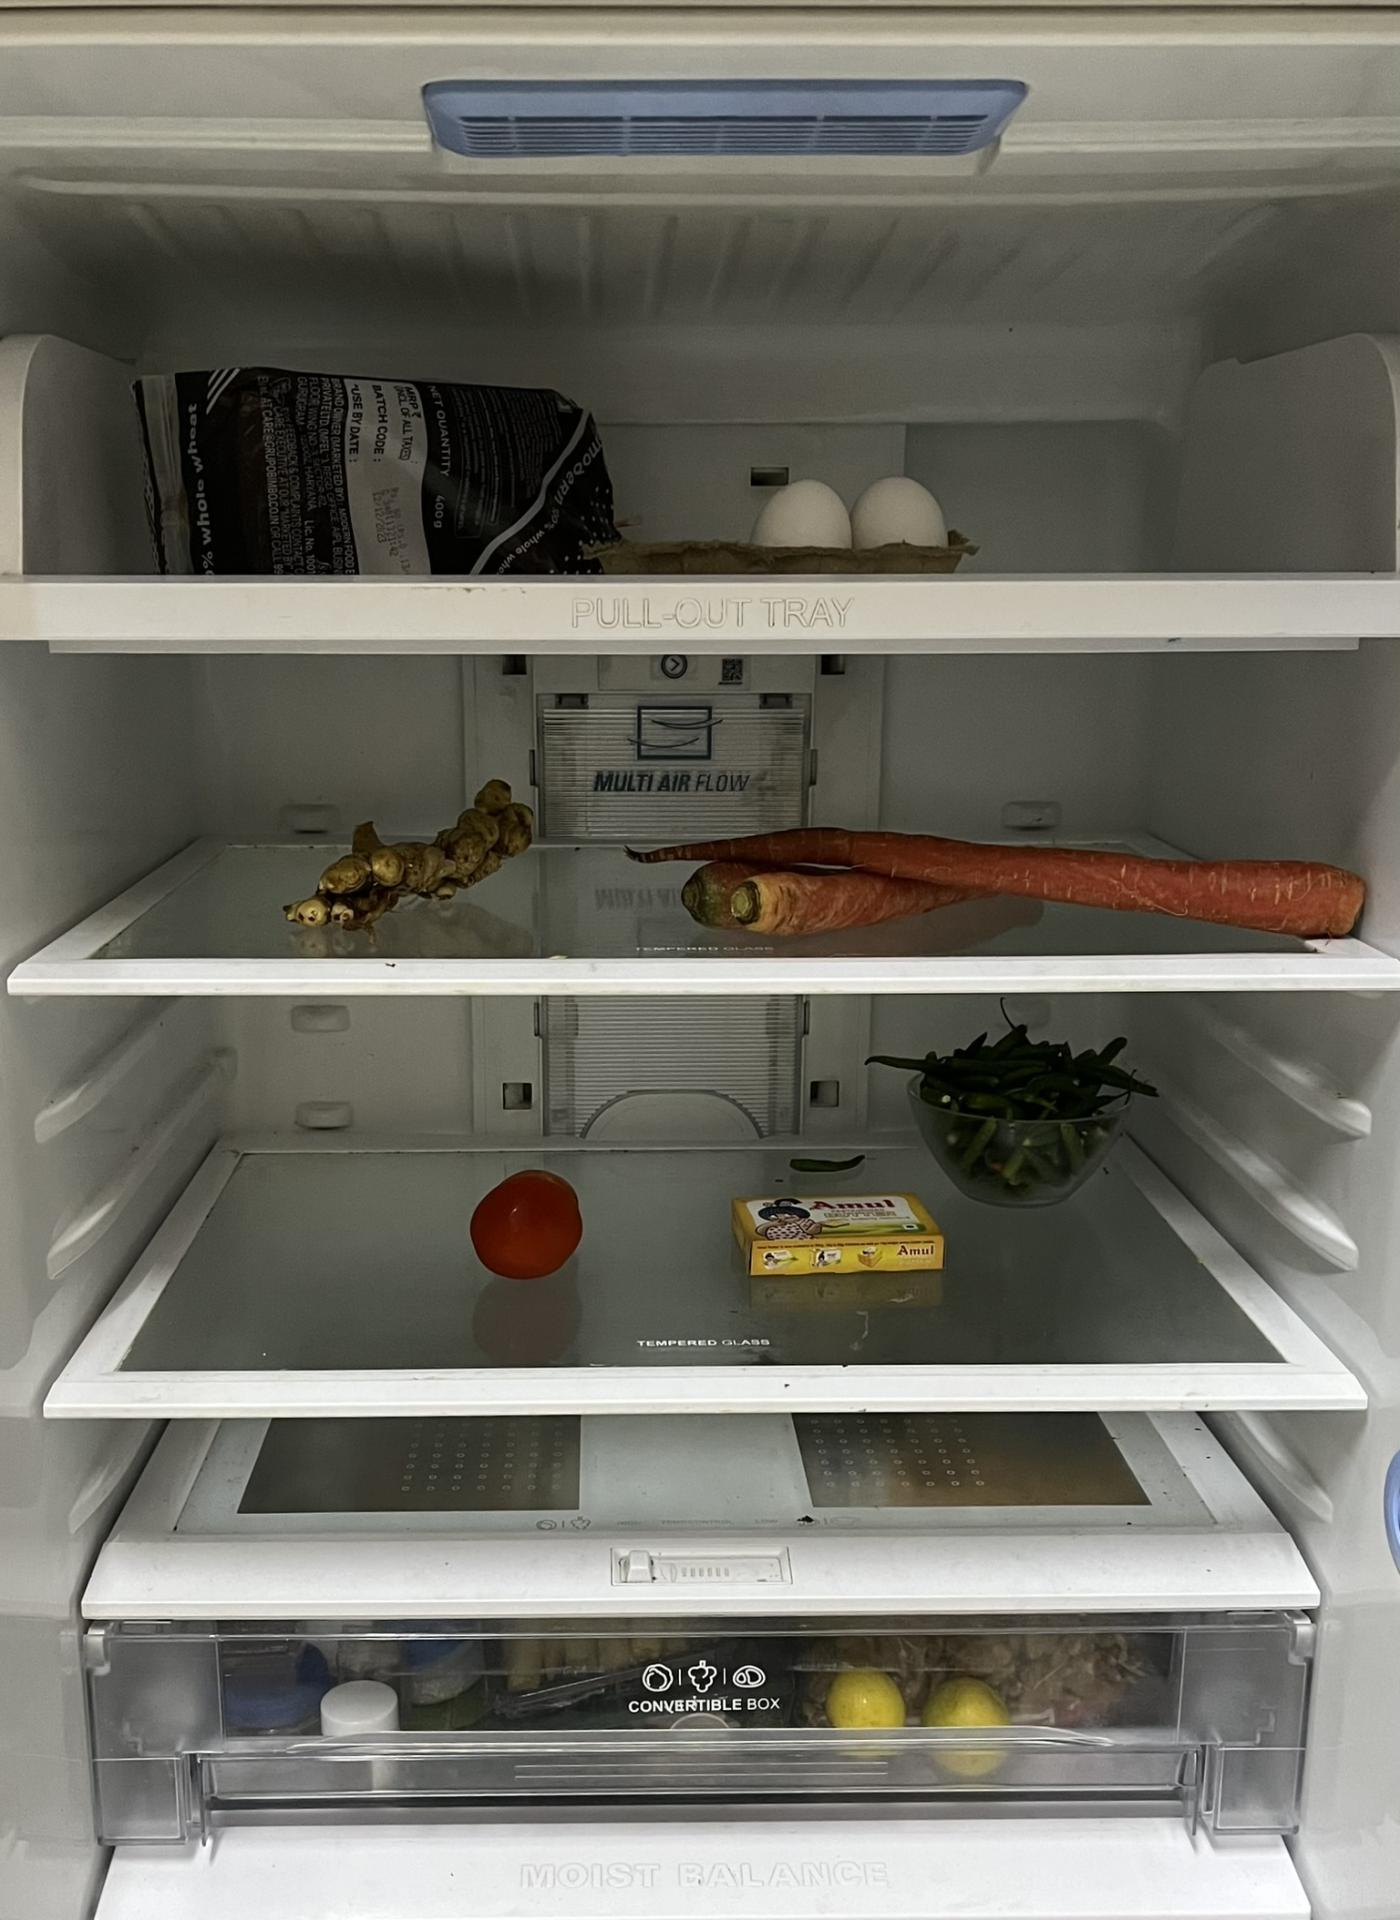bread: (140, 350, 655, 574)
butter: (728, 1178, 953, 1283)
carrots: (668, 826, 1354, 945)
chillies: (918, 1030, 1130, 1194)
egg: (762, 468, 968, 562)
ginger: (282, 781, 543, 936)
tomato: (467, 1158, 586, 1278)
